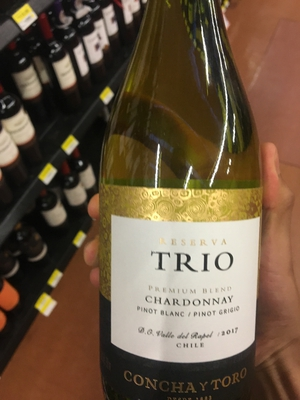trio chardonnay: (94, 25, 270, 400)
